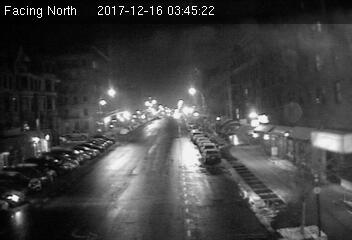car: (203, 148, 221, 165)
